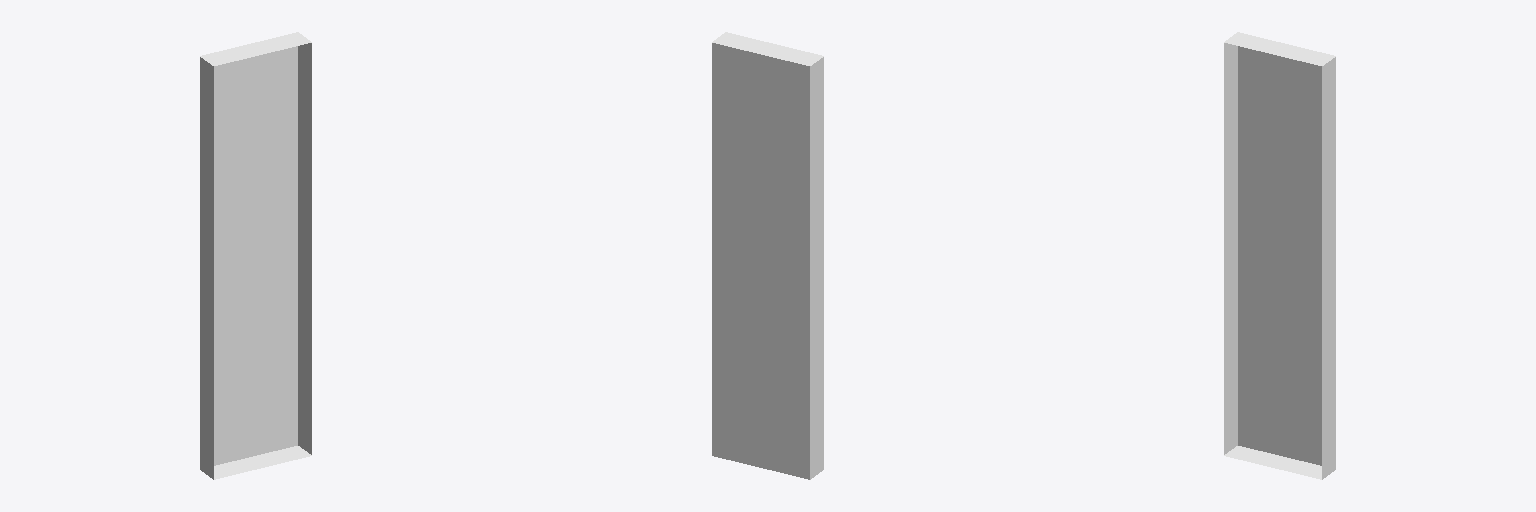
The model's file is wall_modular_tiles_kitchen_half_straight_B.obj.
The picture shows the model from 3 angles: view 1: azimuth 30°, elevation 25°; view 2: azimuth 150°, elevation 25°; view 3: azimuth 330°, elevation 25°; orthographic projection.
Visible parts, largest first — view 1: wall_modular_tiles_kitchen_half_straight_B; view 2: wall_modular_tiles_kitchen_half_straight_B; view 3: wall_modular_tiles_kitchen_half_straight_B.
Boxes of the visible parts, <box> form: wall_modular_tiles_kitchen_half_straight_B: <box>200,32,311,479</box>; wall_modular_tiles_kitchen_half_straight_B: <box>712,32,823,479</box>; wall_modular_tiles_kitchen_half_straight_B: <box>1224,32,1335,479</box>.
Bounding box in the file's own units: 1 × 4 × 0.2494.